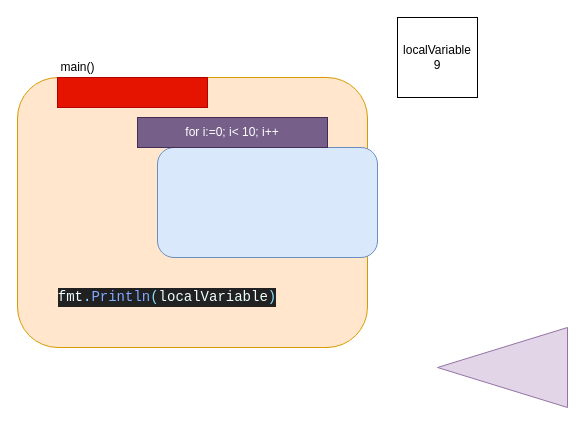
This 585x425 diagram has some shape labels left out. The shapes that lost their labels are listed below. From the top down, each one's box as (x1, y1, x2, y2) in pixels, then its label:
(56, 76, 208, 108): var localVariable int
(156, 146, 378, 258): localVariable = i
